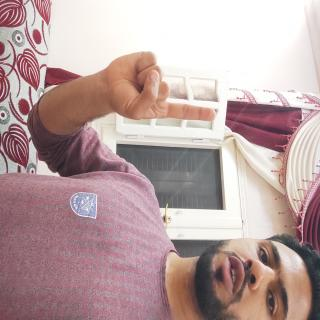BAA: (31, 130, 100, 293)
